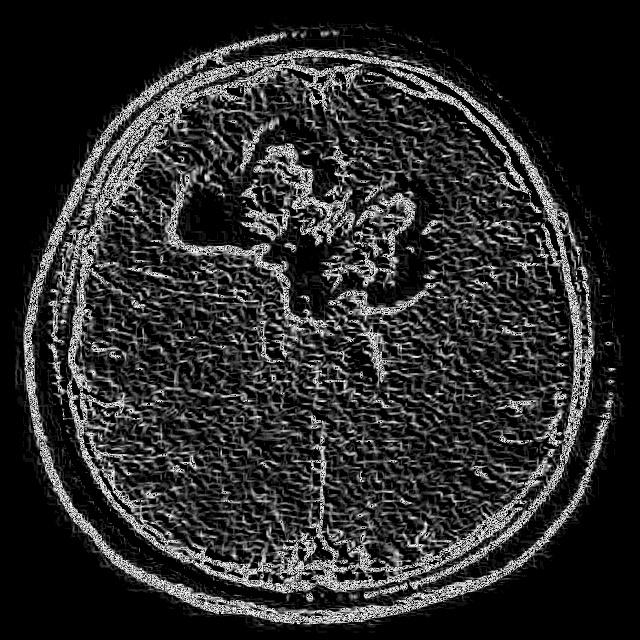Brain-Tumor: (156, 99, 463, 337)
